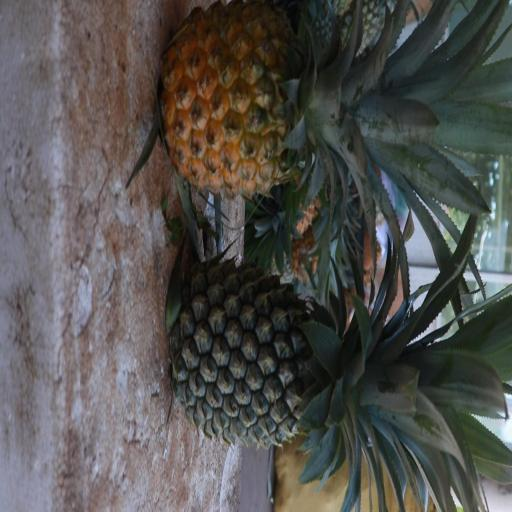Pineapple - v8 v1: (163, 4, 446, 192)
